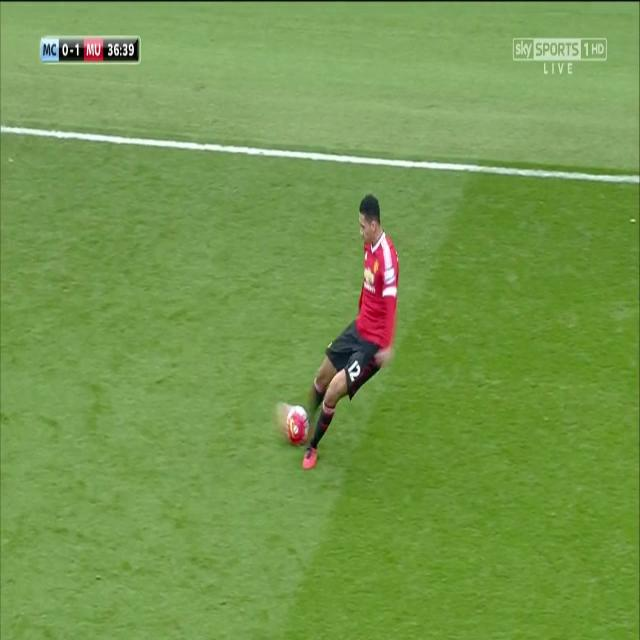Ball: (283, 404, 311, 450)
Player: (303, 189, 399, 474)
